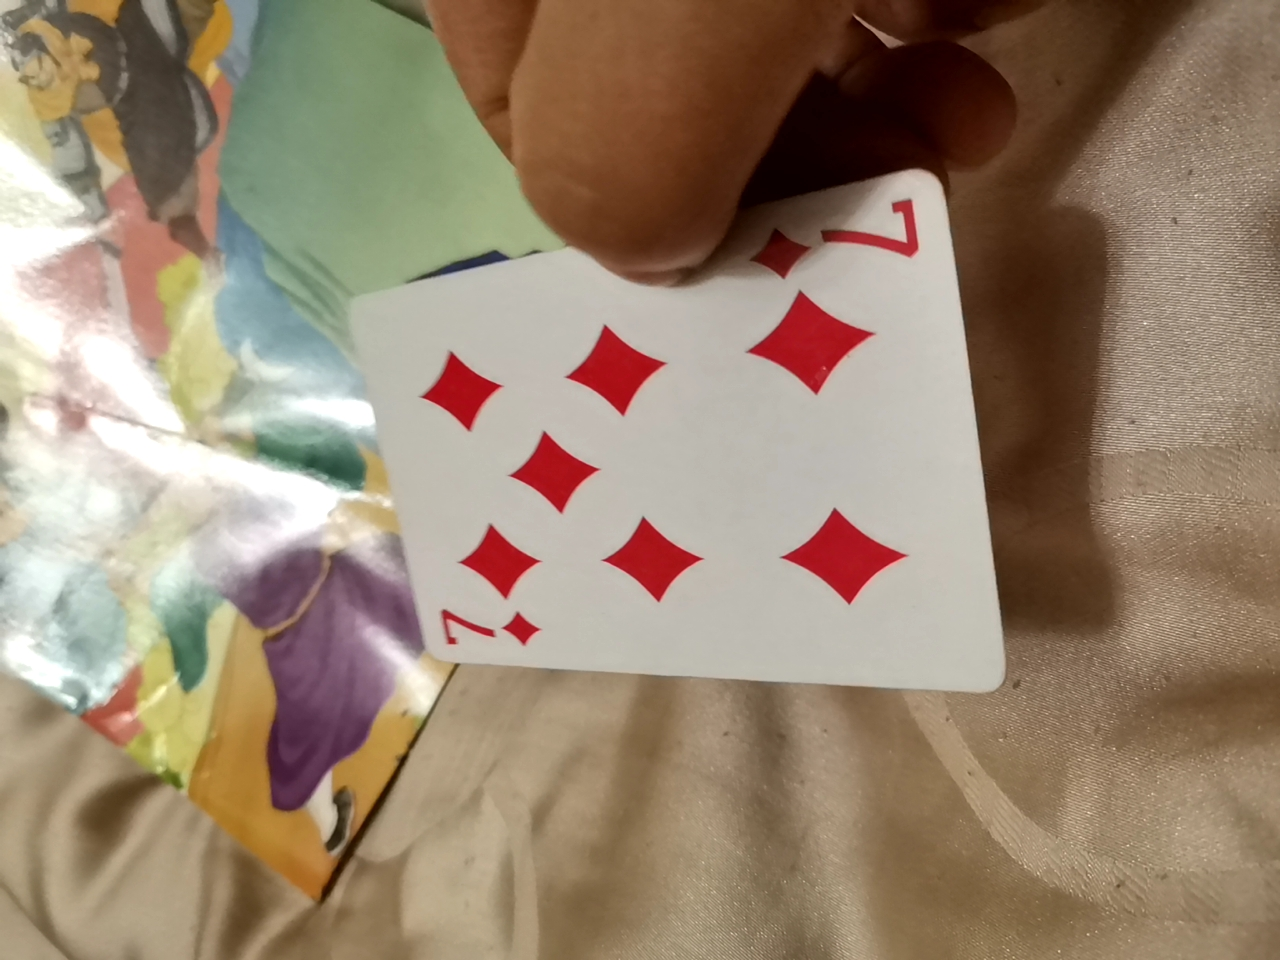fk 7: (452, 199, 946, 760)
